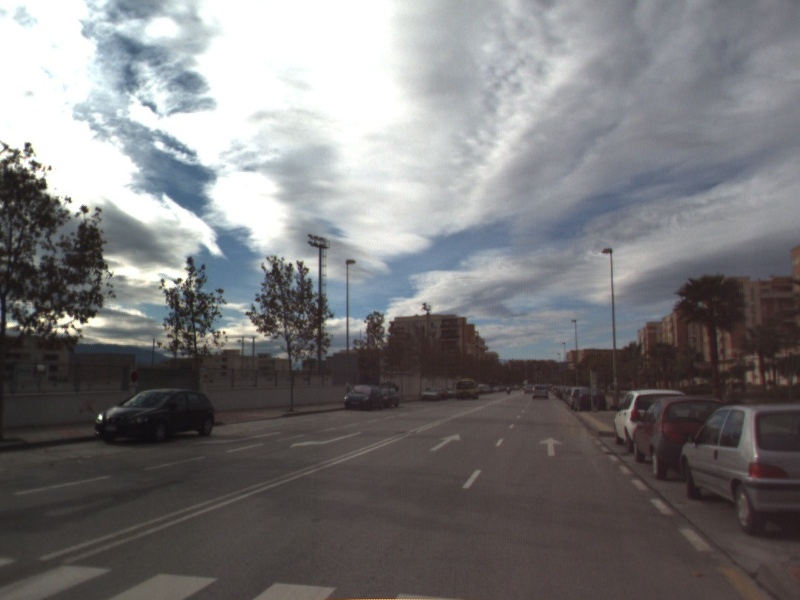STRAIGHT: (427, 432, 463, 453), (536, 435, 566, 458)
